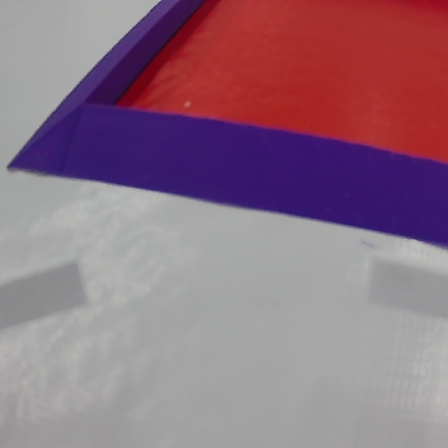red_aim: (12, 3, 448, 254)
